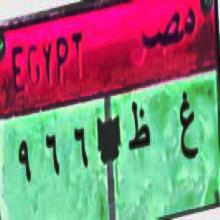6: (72, 118, 90, 182), (42, 129, 64, 180)
9: (16, 139, 37, 193)
Thaa: (126, 96, 154, 164)
ghayn: (178, 81, 198, 171)
